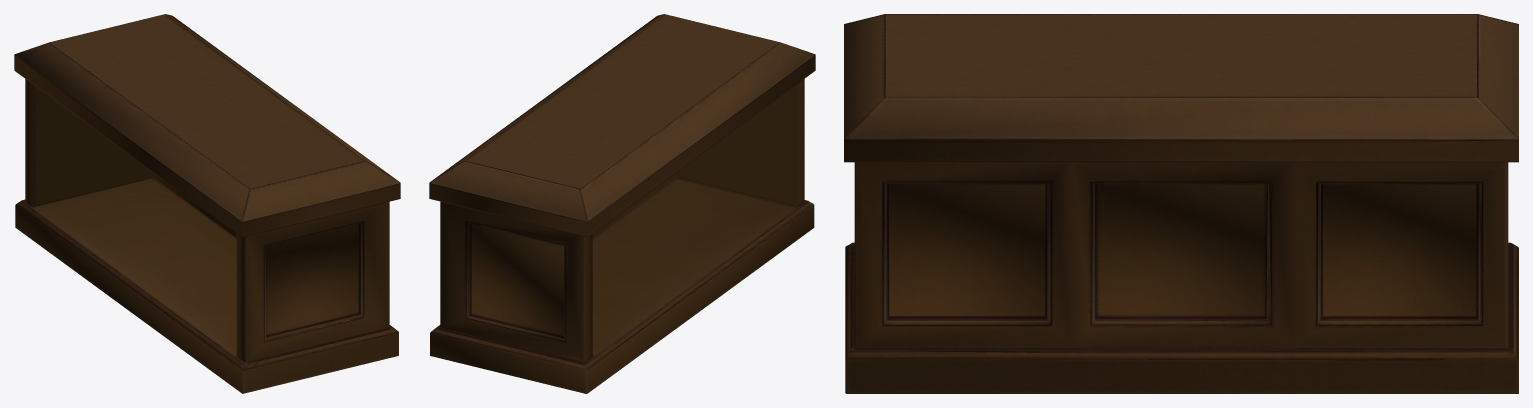
The model's file is ef850c4d-4612-4674-8cdc-5fe9c7dbe4de.fbx.
3 views of the same model, side by side, from view 1: azimuth 30°, elevation 25°; view 2: azimuth 150°, elevation 25°; view 3: azimuth 270°, elevation 25° (orthographic). The views are drawn at different scales.
Parts seen in each view (by area): view 1: tripo_node_4374b26e; view 2: tripo_node_4374b26e; view 3: tripo_node_4374b26e.
Boxes of the visible parts, bbox=[...] form: tripo_node_4374b26e: bbox=[14, 14, 400, 393]; tripo_node_4374b26e: bbox=[429, 14, 815, 393]; tripo_node_4374b26e: bbox=[844, 14, 1518, 393].
Size of the model in its own units: 0.4004 by 0.459 by 0.998.
1 material, 1 textured.
